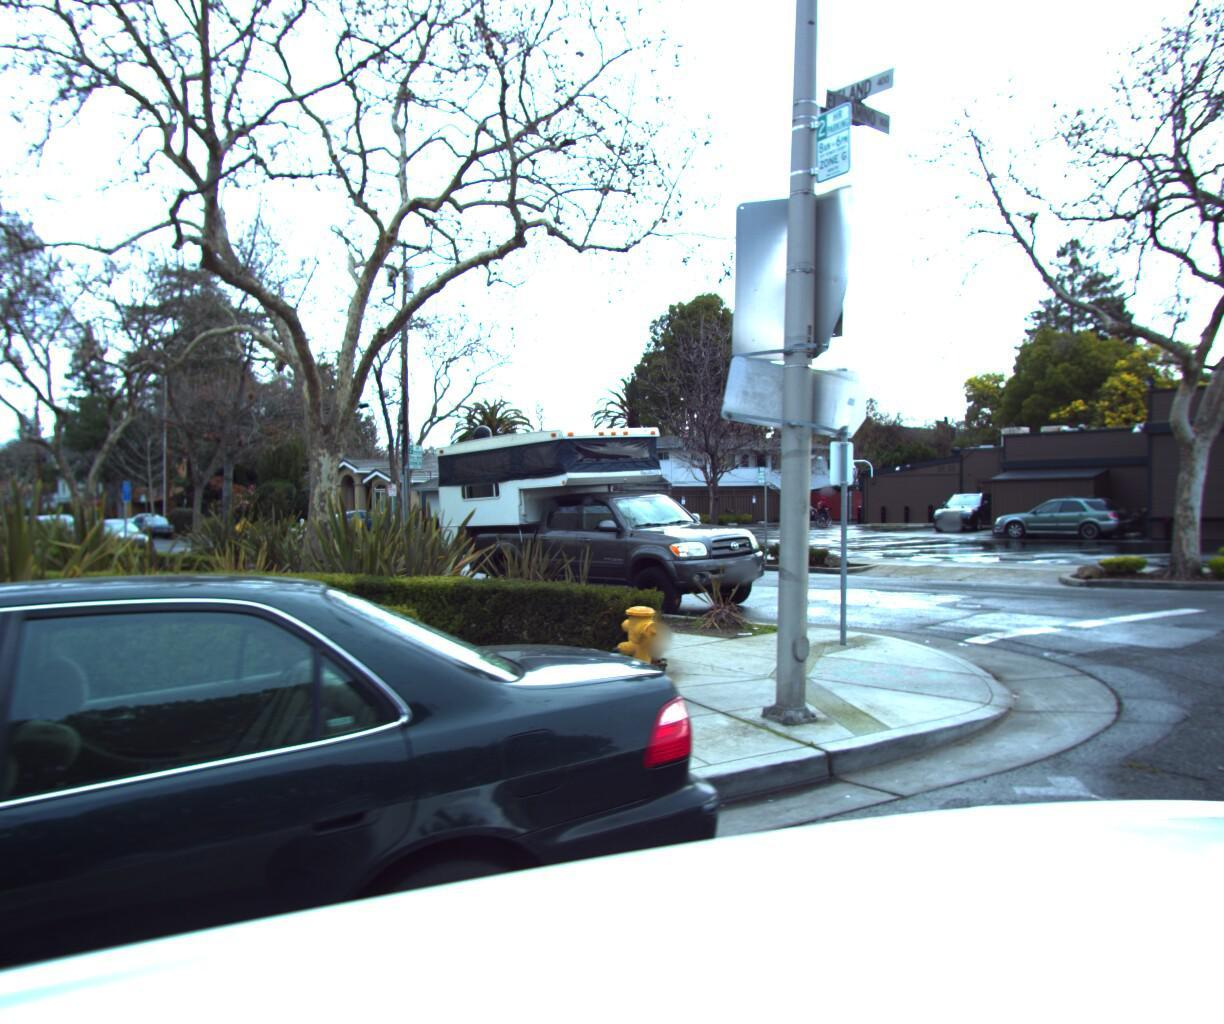car: (0, 522, 788, 1024), (425, 395, 801, 633), (127, 513, 177, 541)
